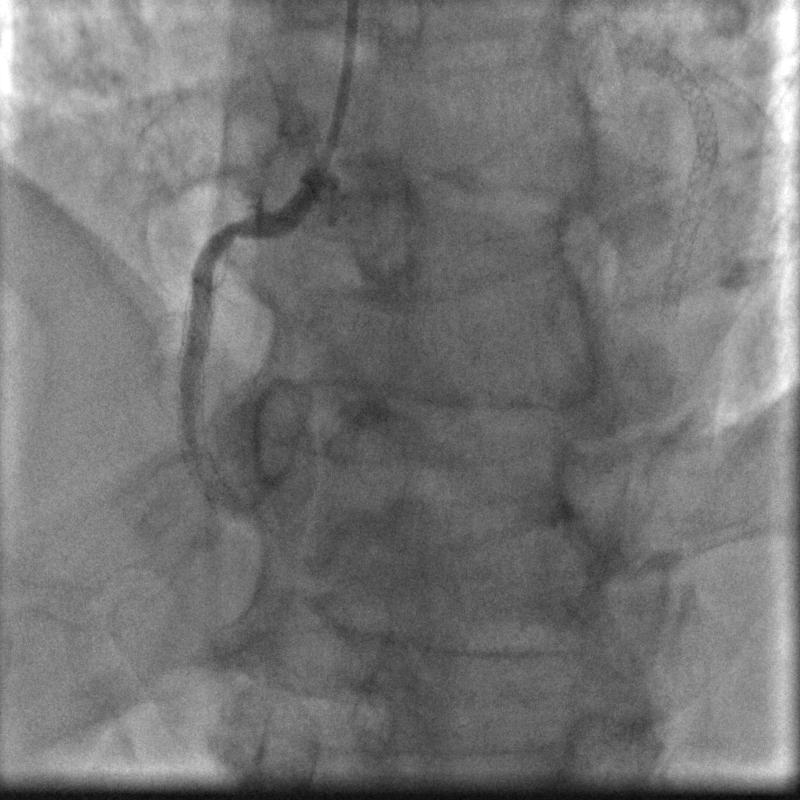Stenosis: (216, 211, 248, 262)
